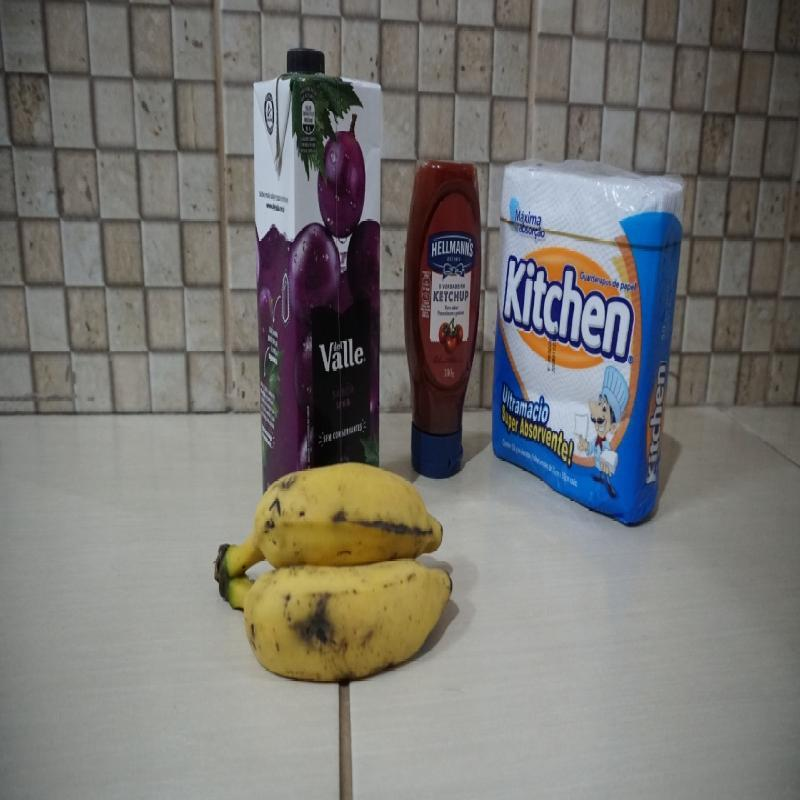Banana: (223, 458, 452, 688)
Ketchup: (406, 158, 483, 439)
Napkin: (492, 157, 685, 524)
